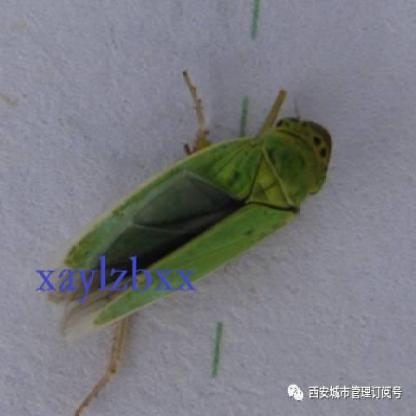Green-Leafhopper: (46, 66, 342, 343)
